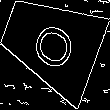O_NW: (24, 13, 78, 73)
